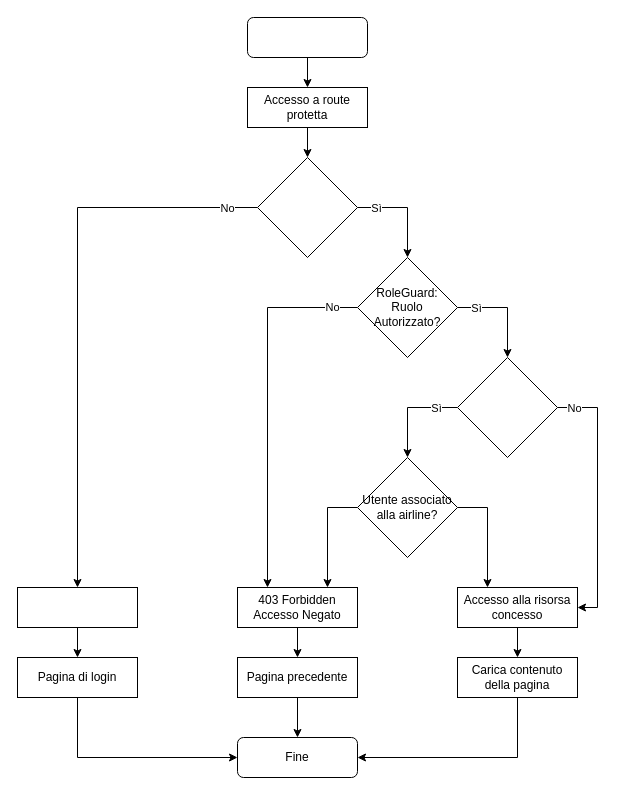
Image size: 623x795. Some labels were removed from this diagram. Each missing label, with the centre of its shape:
"AuthGuard: Utente autenticato?" goes at pixel 307 207.
"Redirect a /login" goes at pixel 77 607.
"Richiede scope airline?" goes at pixel 507 407.
"Start" goes at pixel 307 37.
